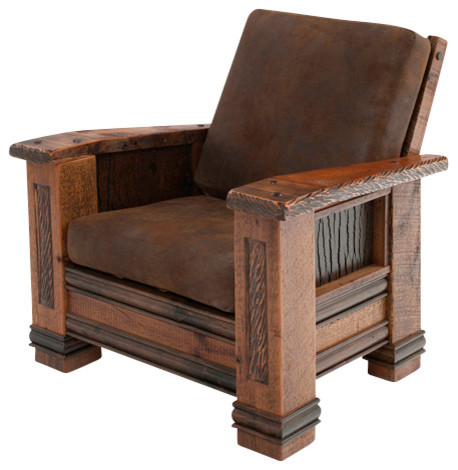chairs: (9, 7, 451, 462)
